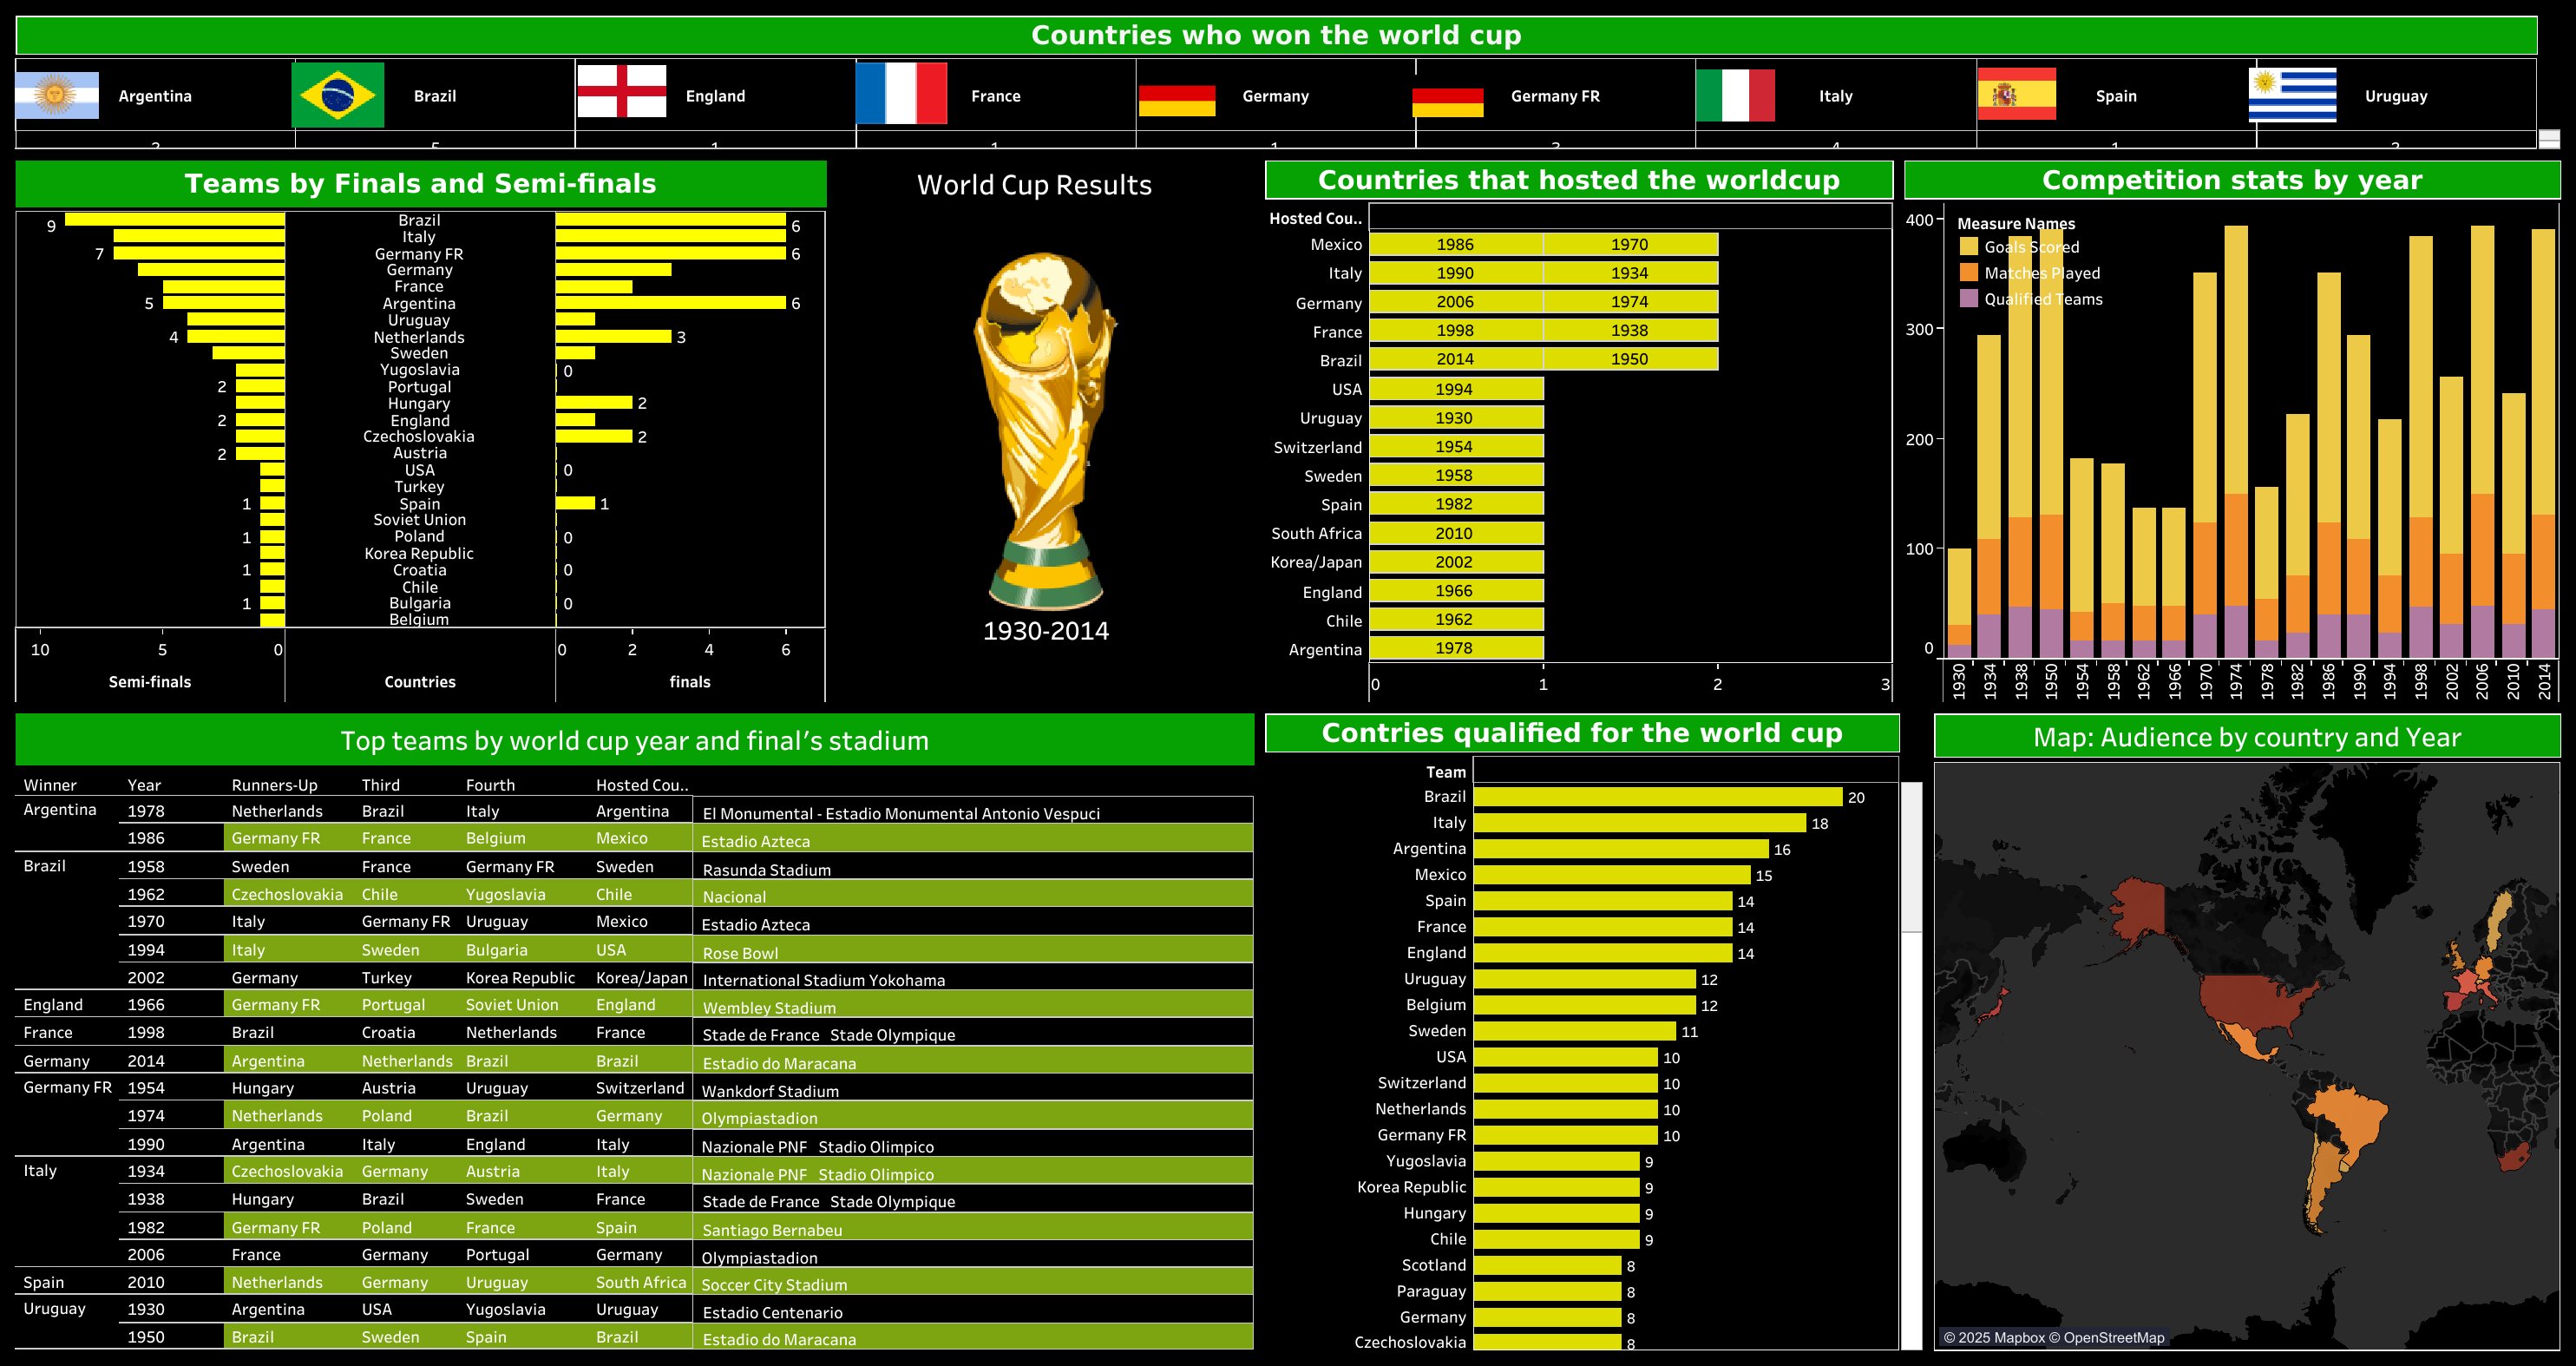

The page's visual inventory and layout, read from the dashboard file:
{"tool":"tableau","page":{"name":"Dashboard 1","canvas":[1980,1290],"ordinal":0},"visuals":[{"type":"worksheet","title":"Countries who won the world cup","mark":"Automatic","cols":["Winner"],"box":[8,8,1964,137]},{"type":"image","param":"Image/Argentina flag.jfif","box":[11,54,65,71]},{"type":"image","param":"Image/England flag.png","box":[444,58,68,56]},{"type":"image","param":"Image/France Flag.jpg","box":[657,58,71,61]},{"type":"image","param":"Image/Brazil flag.png","box":[223,59,74,62]},{"type":"image","param":"Image/Italy flag.png","box":[1303,63,61,55]},{"type":"image","param":"Image/Germany flag.png","box":[875,64,59,49]},{"type":"image","param":"Image/Spain flag.jpg","box":[1514,64,72,49]},{"type":"image","param":"Image/uruguay flag.png","box":[1728,64,68,51]},{"type":"image","param":"Image/Germany flag.png","box":[1085,66,55,49]},{"type":"worksheet","title":"Teams by Finals and Semi-finals","mark":"Automatic","rows":["Team"],"cols":["Calculation_43628672571682817","Calculation_43628672572772354","Calculation_43628672571203584"],"box":[8,145,630.7,523]},{"type":"image","param":"Image/worl cup pic.png","box":[638.7,145,329.8,523]},{"type":"worksheet","title":"Countries that hosted the worldcup","mark":"Automatic","rows":["Country"],"cols":["Year"],"box":[968.5,145,490.5,523]},{"type":"worksheet","title":"Competition stats by year","mark":"Bar","cols":["Year (WorldCupMatches)"],"box":[1459,145,513,523]},{"type":"text","box":[652,148,286,49]},{"type":"legend","title":"Competition stats by year","param":"[federated.0rt6u1901ox1n11belcy30eyc43j].[:Measure Names]","box":[1503,196,169,103]},{"type":"text","box":[723,570,162,48]},{"type":"worksheet","title":"Top teams by world cup year and final's stadium","mark":"Automatic","rows":["Winner","Year","Runners-Up","Third","Fourth","Country"],"box":[8,668,960,614]},{"type":"worksheet","title":"Contries qualified for the world cup","mark":"Automatic","rows":["Team"],"cols":["Year (World Cup - Tableau format)"],"box":[968,668,514,614]},{"type":"worksheet","title":"Map: Audience by country and Year","mark":"Multipolygon","box":[1482,668,490,614]}]}

Visuals, with their boxes on the page's 1980x1290 design canvas (x1, y1, x2, y2). These are canvas units, not pixel positions in the 2576x1366 screenshot, which may show the page scaled, cropped or inside an application window:
"Countries who won the world cup" worksheet: box=[8, 8, 1972, 145]
image: box=[11, 54, 76, 125]
image: box=[444, 58, 512, 114]
image: box=[657, 58, 728, 119]
image: box=[223, 59, 297, 121]
image: box=[1303, 63, 1364, 118]
image: box=[875, 64, 934, 113]
image: box=[1514, 64, 1586, 113]
image: box=[1728, 64, 1796, 115]
image: box=[1085, 66, 1140, 115]
"Teams by Finals and Semi-finals" worksheet: box=[8, 145, 639, 668]
image: box=[639, 145, 968, 668]
"Countries that hosted the worldcup" worksheet: box=[968, 145, 1459, 668]
"Competition stats by year" worksheet (Bar marks): box=[1459, 145, 1972, 668]
text: box=[652, 148, 938, 197]
"Competition stats by year" legend: box=[1503, 196, 1672, 299]
text: box=[723, 570, 885, 618]
"Top teams by world cup year and final's stadium" worksheet: box=[8, 668, 968, 1282]
"Contries qualified for the world cup" worksheet: box=[968, 668, 1482, 1282]
"Map: Audience by country and Year" worksheet (Multipolygon marks): box=[1482, 668, 1972, 1282]
